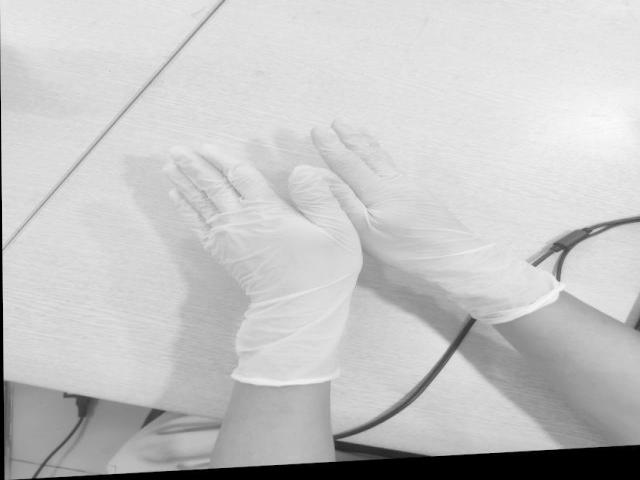gloved: (310, 116, 500, 295), (161, 147, 363, 313)
